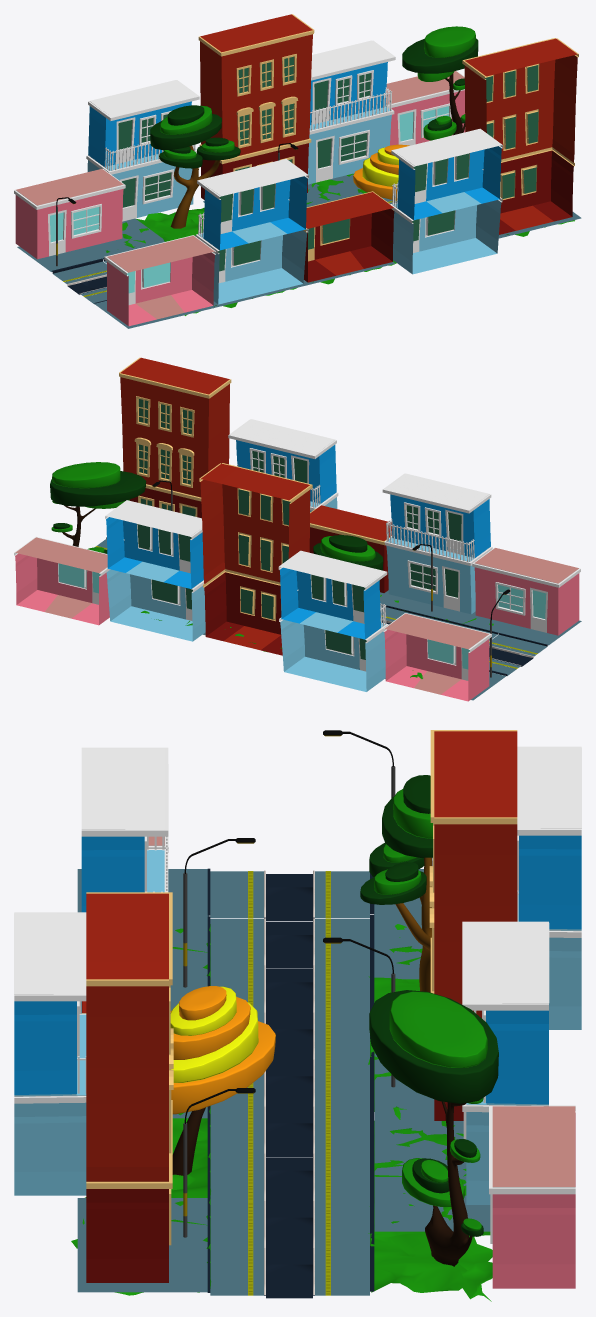
File: Calle2.fbx
The picture shows the model from 3 angles, top to bottom: view 1: azimuth 30°, elevation 25°; view 2: azimuth 150°, elevation 25°; view 3: azimuth 270°, elevation 25°; orthographic projection. The views are drawn at different scales.
Visible parts, largest first — view 1: edifio011, edifio1, edifio016, edifio013, edifio003, edifio015, edifio012, edifio005, edifio014, arbolciudad004, carretera 012, arbolciudad2 (+4 smaller); view 2: edifio1, edifio011, edifio015, edifio003, edifio013, edifio005, edifio012, edifio022, edifio016, arbolciudad2, edifio014, carretera 012 (+3 smaller); view 3: edifio011, carretera 012, edifio016, edifio1, arbolciudad2, carretera 006, carretera 005, edifio022, edifio003, edifio015, carretera 008, edifio013 (+7 smaller).
Part boxes in pixels (bbox=[...]): edifio011: bbox=[462, 38, 578, 234]; edifio1: bbox=[198, 14, 314, 199]; edifio016: bbox=[390, 128, 502, 274]; edifio013: bbox=[195, 159, 308, 304]; edifio003: bbox=[308, 40, 395, 184]; edifio015: bbox=[86, 80, 199, 221]; edifio012: bbox=[104, 235, 216, 326]; edifio005: bbox=[14, 168, 125, 259]; edifio014: bbox=[303, 191, 394, 282]; arbolciudad004: bbox=[150, 105, 240, 228]; carretera 012: bbox=[17, 173, 581, 328]; arbolciudad2: bbox=[402, 26, 478, 140]; edifio1: bbox=[199, 463, 312, 655]; edifio011: bbox=[119, 357, 231, 518]; edifio015: bbox=[278, 550, 388, 691]; edifio003: bbox=[105, 500, 205, 641]; edifio013: bbox=[382, 473, 492, 614]; edifio005: bbox=[383, 613, 491, 701]; edifio012: bbox=[472, 547, 580, 635]; edifio022: bbox=[14, 536, 110, 625]; edifio016: bbox=[228, 419, 338, 512]; arbolciudad2: bbox=[50, 462, 146, 553]; edifio014: bbox=[309, 505, 391, 592]; carretera 012: bbox=[203, 590, 581, 700]; edifio011: bbox=[86, 892, 173, 1282]; carretera 012: bbox=[77, 869, 490, 1292]; edifio016: bbox=[14, 912, 86, 1195]; edifio1: bbox=[429, 730, 517, 1120]; arbolciudad2: bbox=[369, 990, 498, 1266]; carretera 006: bbox=[207, 1103, 374, 1204]; carretera 005: bbox=[207, 1197, 374, 1298]; edifio022: bbox=[489, 1105, 575, 1288]; edifio003: bbox=[462, 921, 549, 1204]; edifio015: bbox=[517, 746, 581, 1029]; carretera 008: bbox=[207, 915, 374, 1015]; edifio013: bbox=[81, 747, 168, 1013].
Bounding box in the file's own units: 1260 × 450 × 711.
